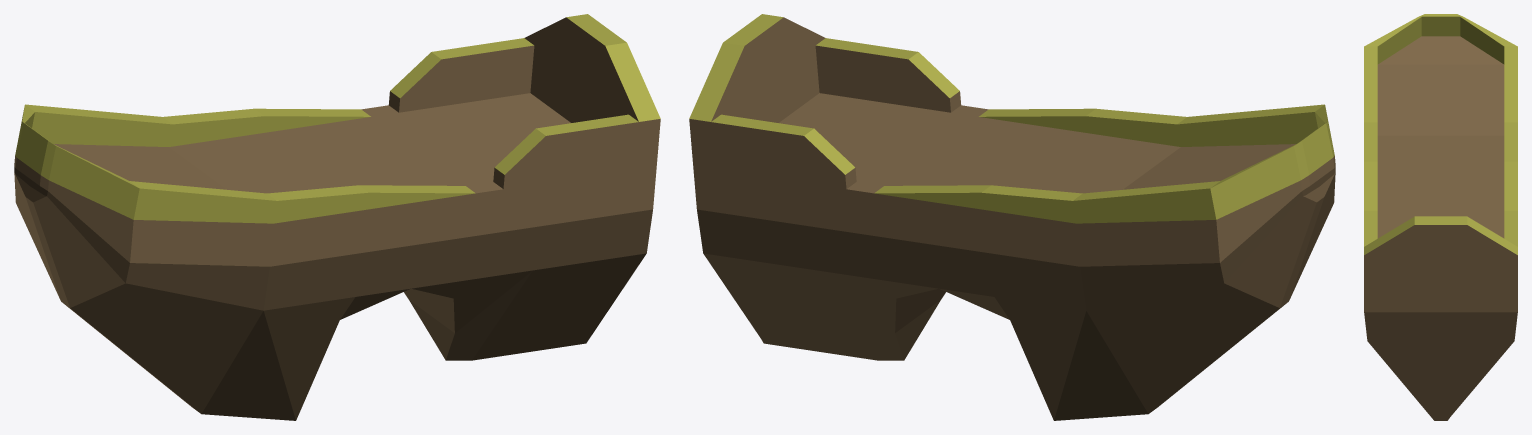
File: Boat.fbx
3 renders of one model, left to right at view 1: azimuth 30°, elevation 25°; view 2: azimuth 150°, elevation 25°; view 3: azimuth 270°, elevation 25°, orthographic. The views are drawn at different scales.
Parts seen in each view (by area): view 1: pCube3; view 2: pCube3; view 3: pCube3.
Part boxes in pixels (x1,y1,x2,y2): pCube3: [14, 14, 660, 420]; pCube3: [689, 14, 1335, 420]; pCube3: [1364, 14, 1517, 420].
Size of the model in its own units: 6.48 by 3.65 by 2.22.
